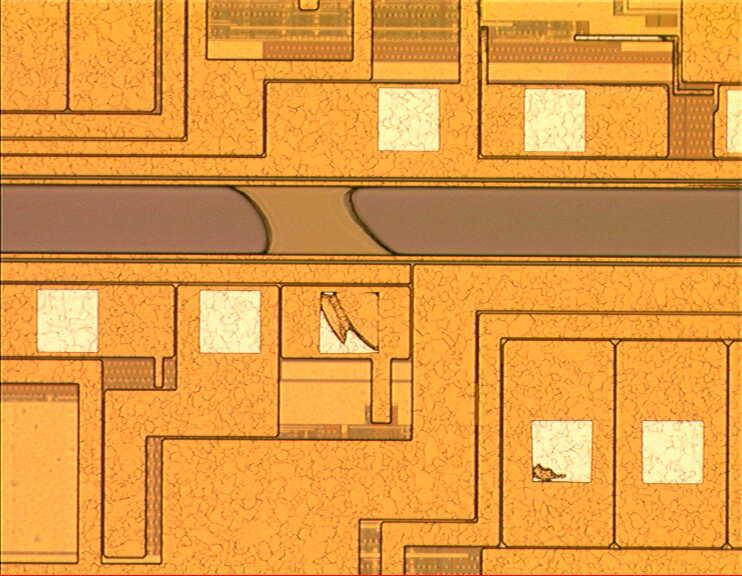COATING BAD: (226, 187, 418, 351)
